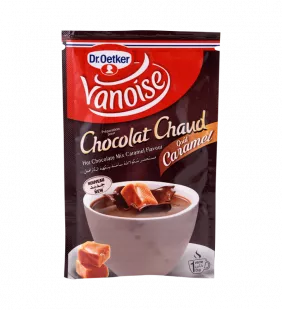Promotion: (52, 21, 228, 285)
